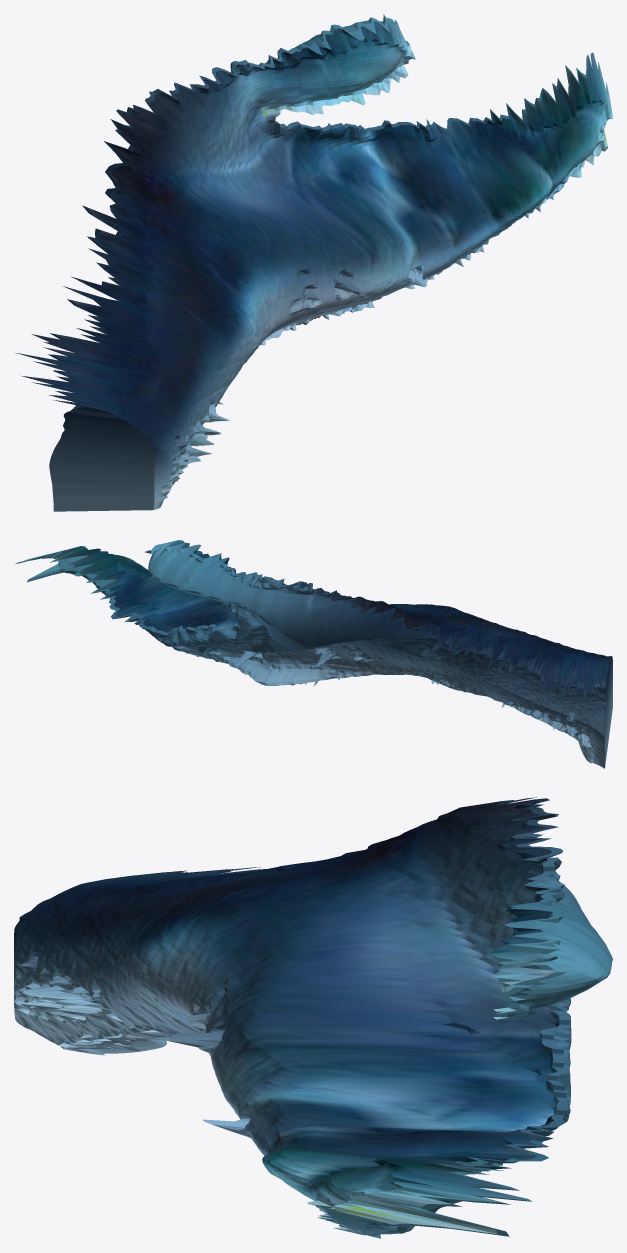
Rendered from cleaned_hand.glb.
The picture shows the model from 3 angles, top to bottom: view 1: azimuth 30°, elevation 25°; view 2: azimuth 150°, elevation 25°; view 3: azimuth 270°, elevation 25°; orthographic projection. The views are drawn at different scales.
Parts seen in each view (by area): view 1: geometry_0; view 2: geometry_0; view 3: geometry_0.
Part boxes in pixels (box(x1,y1,x2,y2)): geometry_0: box(15, 14, 612, 511); geometry_0: box(14, 540, 612, 768); geometry_0: box(14, 797, 612, 1238).
Bounding box in the file's own units: 1.19 × 0.4847 × 0.6482.
1 material, 1 textured.
